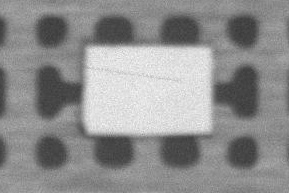DIE_CRACK: (126, 45, 273, 54)
